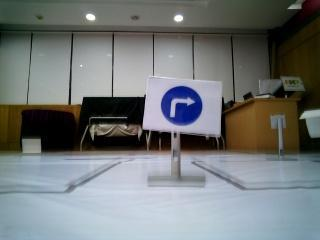right: (154, 76, 219, 133)
